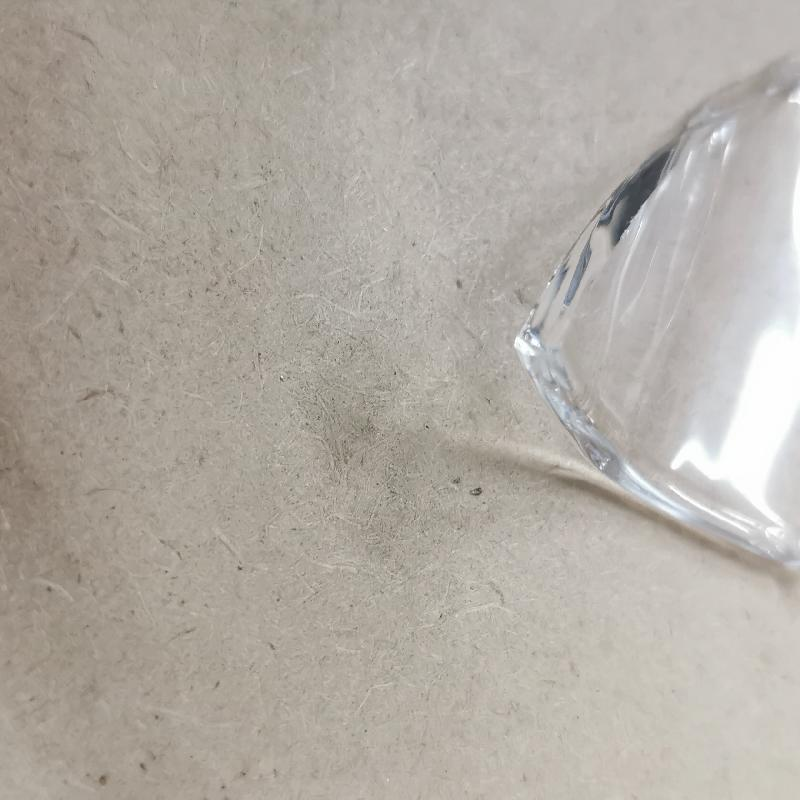glass: (508, 60, 800, 578)
